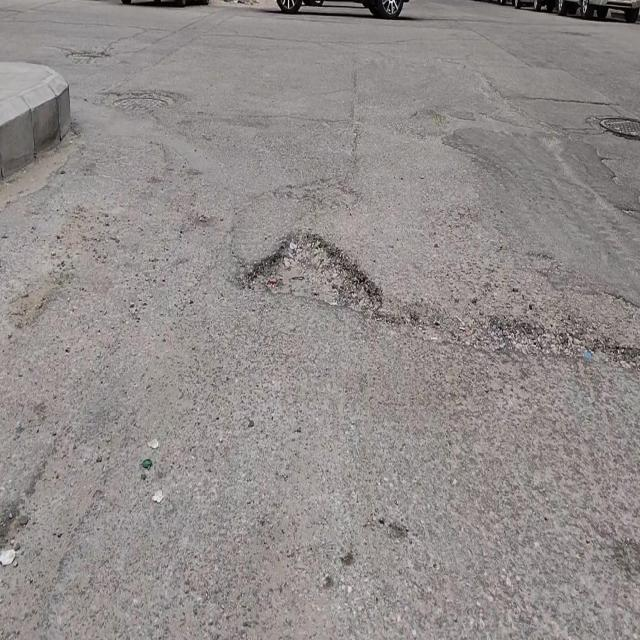Pothole: (249, 222, 393, 321)
